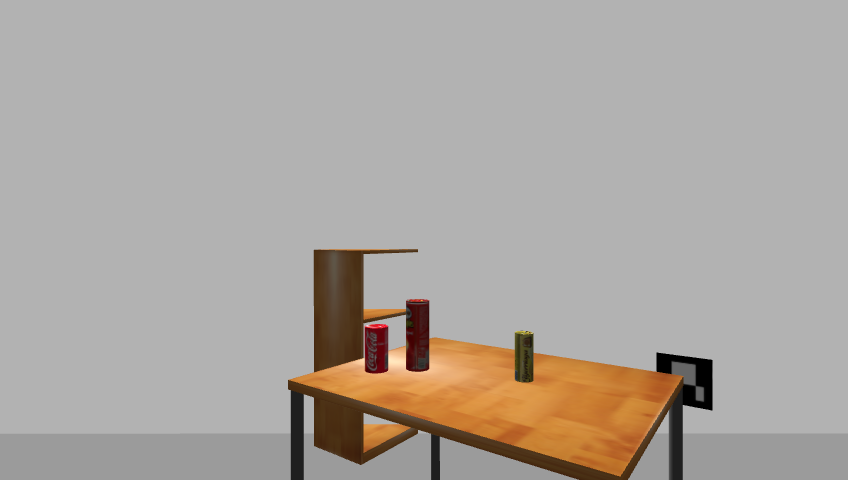aruco marker: (651, 350, 718, 412)
biscuits pack: (513, 331, 535, 384)
bookshelf: (307, 245, 422, 469)
coke can: (362, 323, 390, 375)
dinner table: (281, 341, 692, 479)
pringles can: (404, 298, 432, 374)
